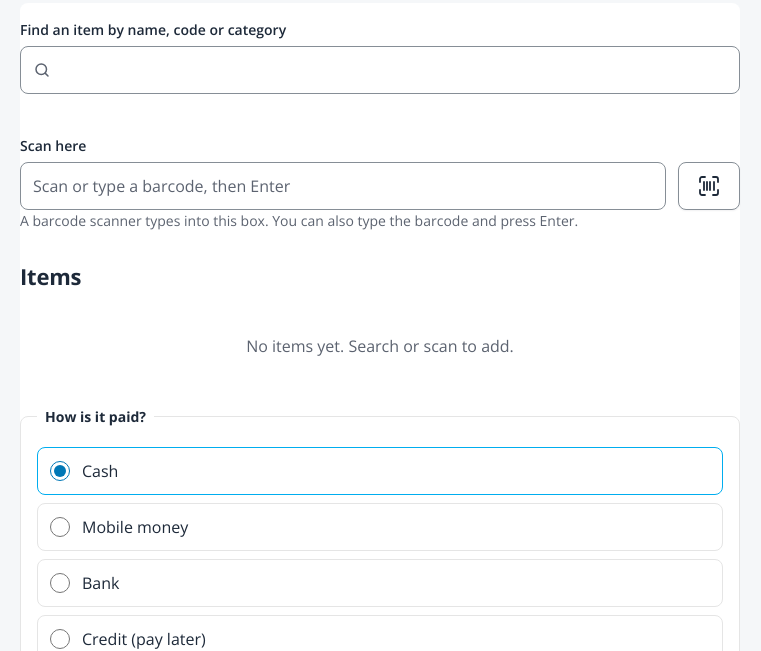
Scenario: the sale bar › shows the total as the hero, in the one money format
Type "Test Lamp 15W" into the dropdown labelled "Find an item by name, code or category" at (380, 70), box left=20, top=46, right=740, bottom=94
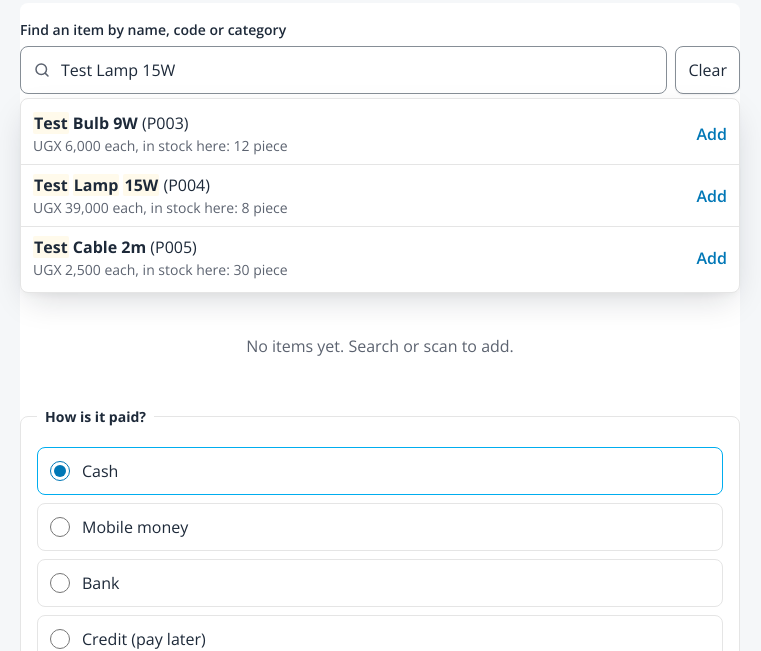
Click the 2nd option at (51, 185), box left=21, top=164, right=739, bottom=226
(page scrolled)
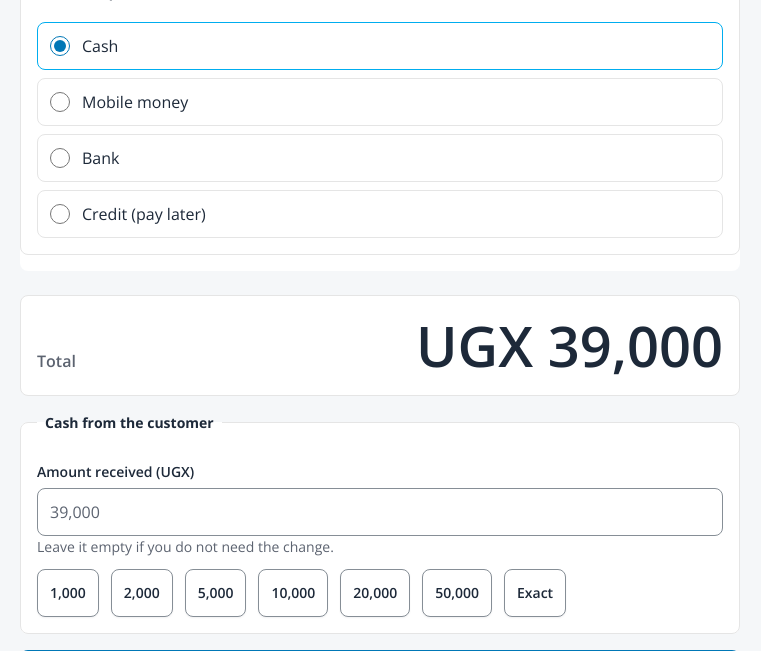
Expected: the element with class "rt-total-hero" reads "Total UGX 39,000", left=20, top=295, right=740, bottom=396
Expected: the text with class "rt-total-amount" reads "UGX 39,000", left=416, top=307, right=723, bottom=383
